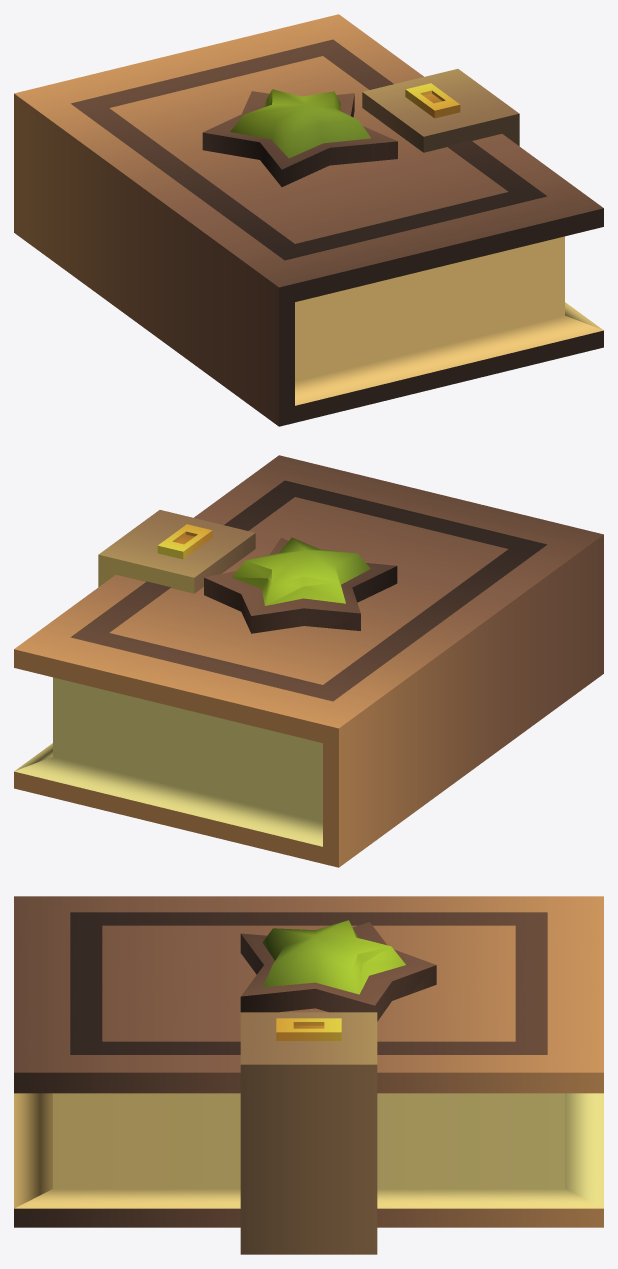
Rendered from book1.fbx.
3 renders of one model, top to bottom at view 1: azimuth 30°, elevation 25°; view 2: azimuth 150°, elevation 25°; view 3: azimuth 270°, elevation 25°, orthographic. The views are drawn at different scales.
Visible parts, largest first — view 1: Book1; view 2: Book1; view 3: Book1.
Part boxes in pixels (<box>): Book1: <box>14,14,603,426</box>; Book1: <box>14,455,603,867</box>; Book1: <box>14,896,603,1254</box>.
Bounding box in the file's own units: 1.16 × 0.6429 × 1.55.
1 material, 1 textured.
